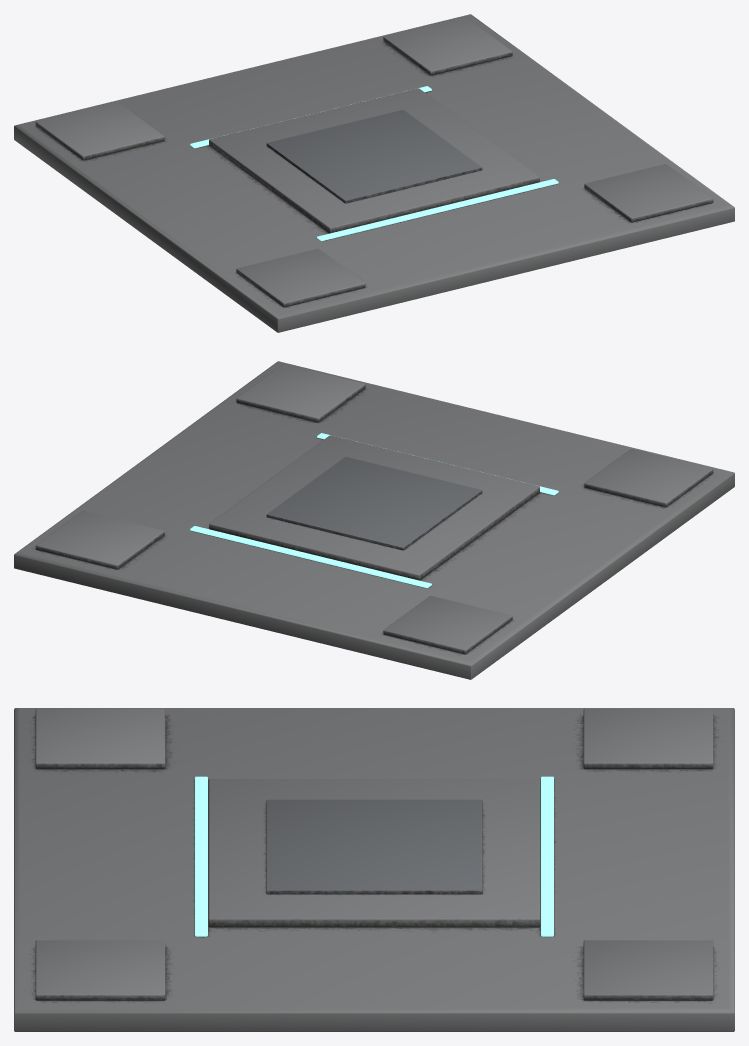
The model's file is SM_TechFloor_Tile_01.fbx.
3 renders of one model, top to bottom at view 1: azimuth 30°, elevation 25°; view 2: azimuth 150°, elevation 25°; view 3: azimuth 270°, elevation 25°, orthographic. The views are drawn at different scales.
Parts seen in each view (by area): view 1: SM_TechFloor_Tile_01; view 2: SM_TechFloor_Tile_01; view 3: SM_TechFloor_Tile_01.
Boxes of the visible parts, box(x1,y1,x2,y2) form: SM_TechFloor_Tile_01: box(14, 14, 734, 332); SM_TechFloor_Tile_01: box(14, 361, 734, 679); SM_TechFloor_Tile_01: box(14, 708, 734, 1031).
Size of the model in its own units: 1 by 0.054 by 1.
